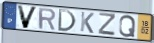D: (57, 9, 78, 33)
K: (79, 11, 95, 35)
Q: (118, 14, 137, 38)
R: (37, 7, 57, 32)
V: (16, 5, 39, 30)
Z: (98, 12, 117, 37)
